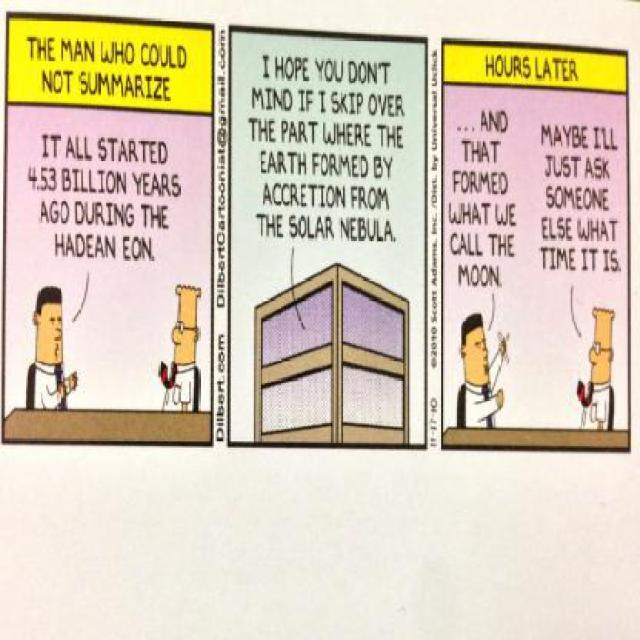Person: (458, 308, 509, 430), (30, 282, 76, 406), (162, 284, 200, 416), (577, 306, 615, 429)
